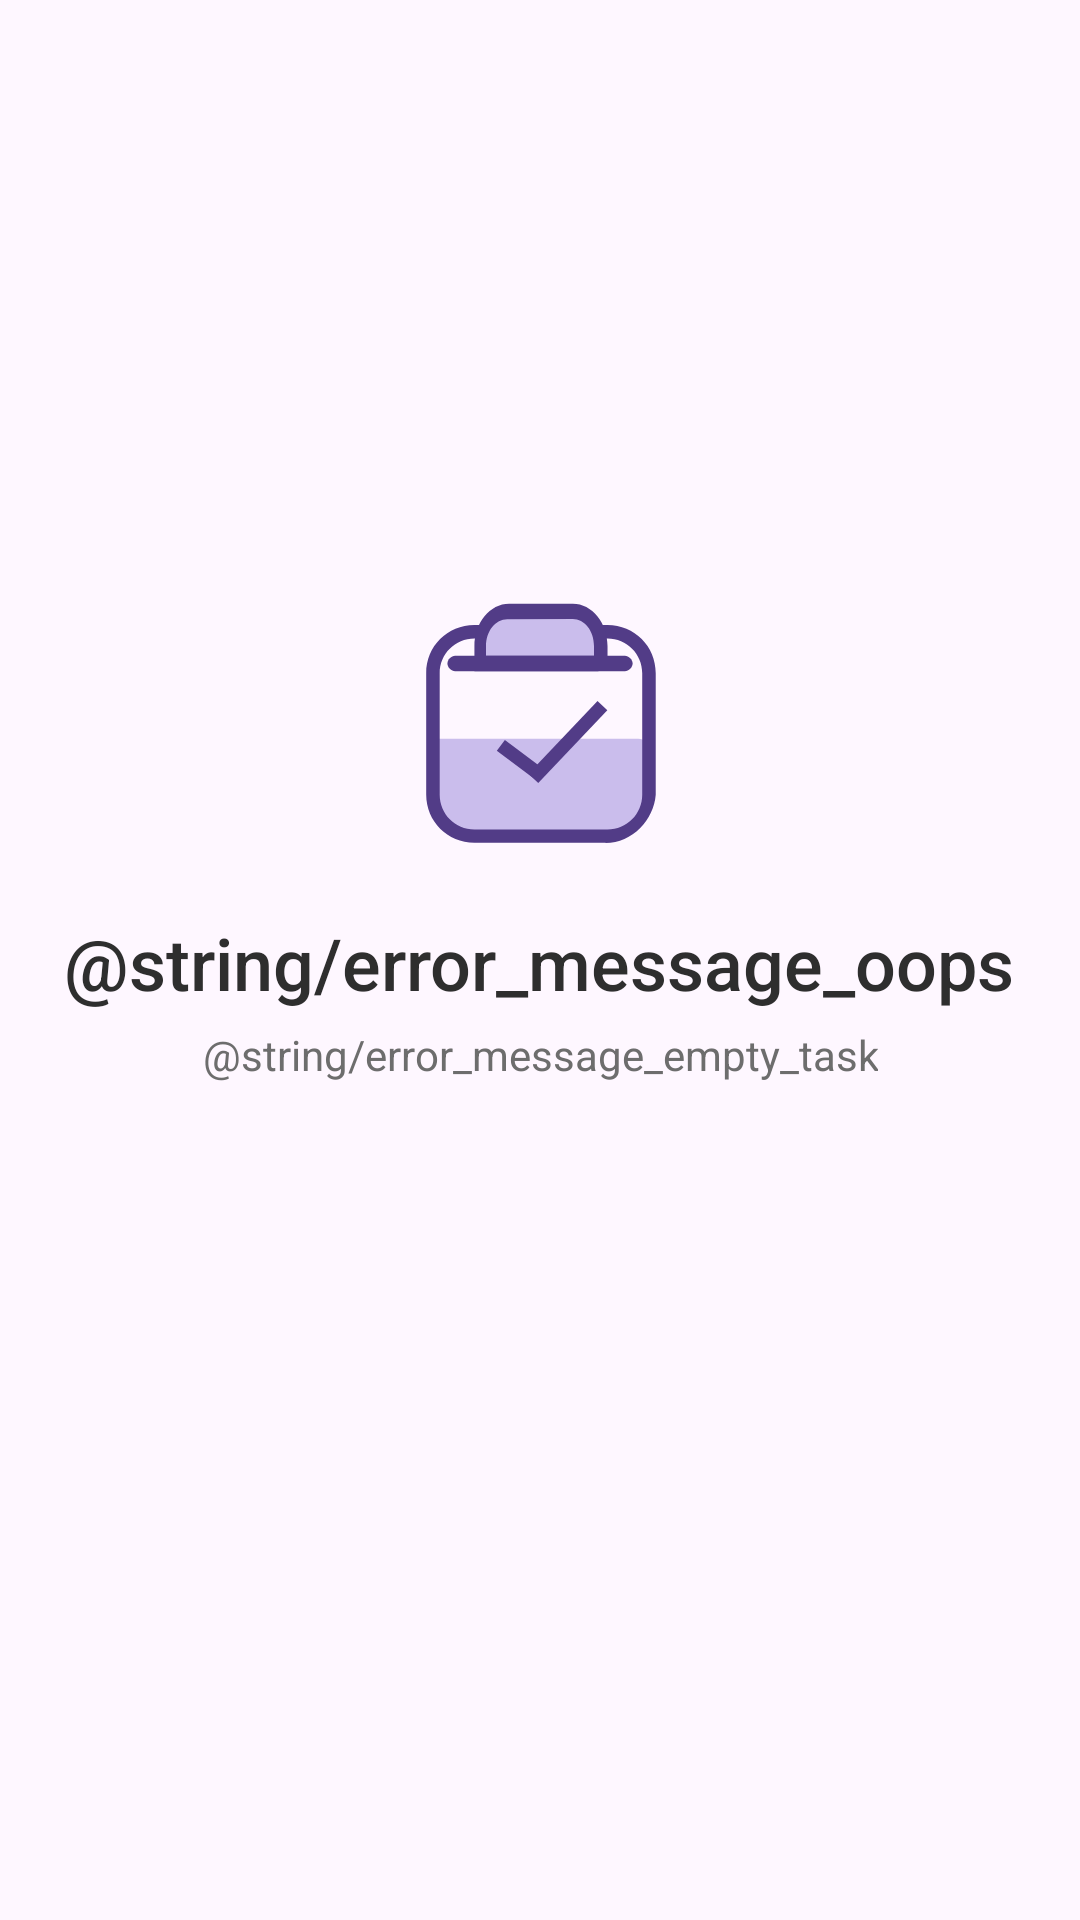

Named icons in this screenshot (1080px×1920px) and their centers, (x=x, y=y):
task: (x=541, y=723)
